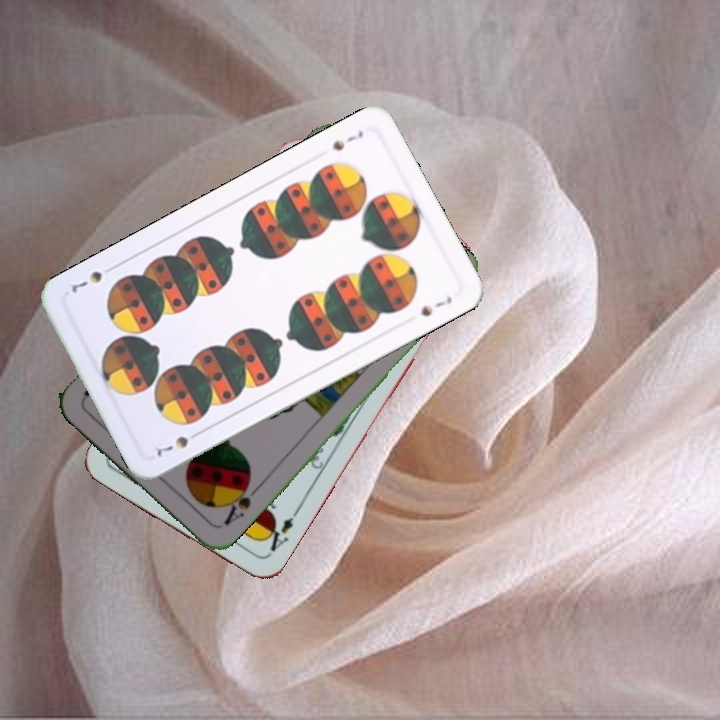EA: (259, 506, 301, 555)
S7: (152, 426, 205, 460), (328, 126, 366, 154)
SA: (219, 477, 260, 528)
